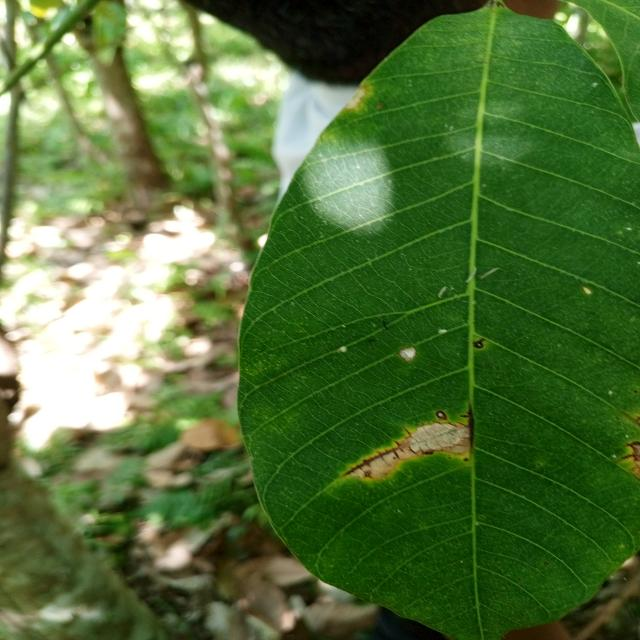Colletotrichum: (436, 410, 447, 421)
Corynespora: (344, 440, 404, 476), (462, 403, 475, 448), (620, 440, 640, 460)
Leaf-Blight: (352, 425, 471, 479), (409, 423, 462, 451), (399, 347, 416, 361), (474, 341, 483, 349)
